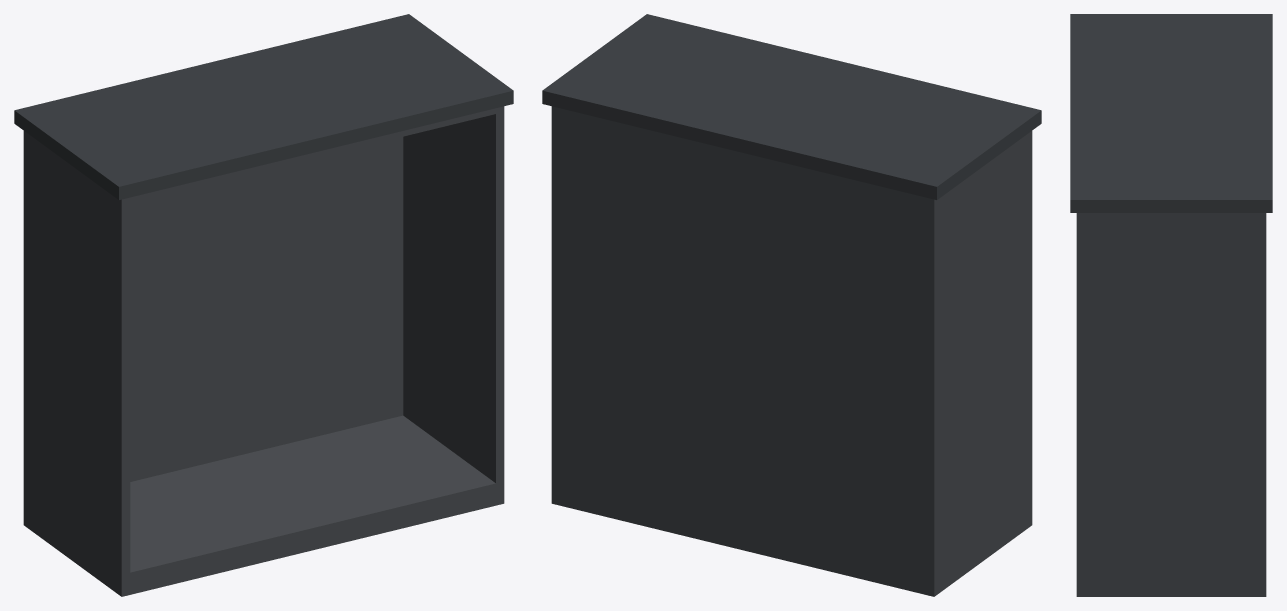
File: Dresser4_C3.fbx
3 renders of one model, left to right at view 1: azimuth 30°, elevation 25°; view 2: azimuth 150°, elevation 25°; view 3: azimuth 270°, elevation 25°, orthographic. The views are drawn at different scales.
Parts seen in each view (by area): view 1: Dresser4_C3; view 2: Dresser4_C3; view 3: Dresser4_C3.
Boxes of the visible parts, <box> form: Dresser4_C3: <box>14,14,513,596</box>; Dresser4_C3: <box>542,14,1041,596</box>; Dresser4_C3: <box>1070,14,1272,596</box>.
Size of the model in its own units: 92.81 by 93 by 42.63.
